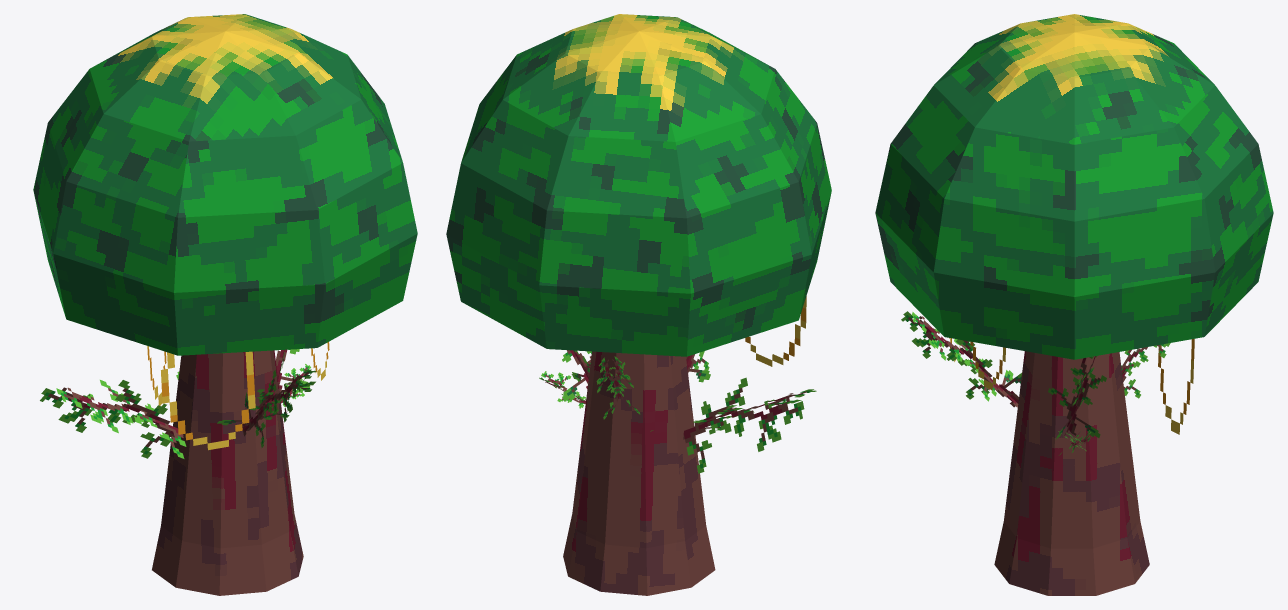
Rendered from tree.glb.
3 views of the same model, side by side, from view 1: azimuth 30°, elevation 25°; view 2: azimuth 150°, elevation 25°; view 3: azimuth 270°, elevation 25° (orthographic).
Visible parts, largest first — view 1: TreeMesh; view 2: TreeMesh; view 3: TreeMesh.
Boxes of the visible parts, x1,y1,x2,y2 form: TreeMesh: (33,14,417,595); TreeMesh: (446,14,831,595); TreeMesh: (875,14,1273,595).
Size of the model in its own units: 4.13 by 5.75 by 3.9.
3 materials, 3 textured.
